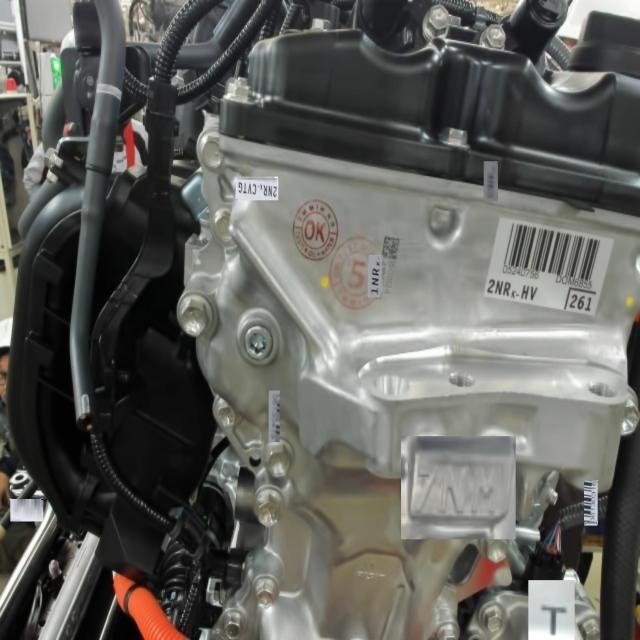Compressor-T: (536, 599, 569, 640)
Engine Assy-261: (562, 282, 596, 322)
Hose Canister-PT: (92, 74, 123, 113)
Transaxele-7NM: (406, 440, 509, 525)
